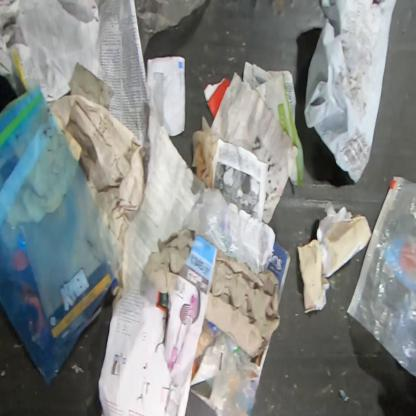soft_plastic: (0, 83, 125, 388), (303, 0, 397, 184), (346, 175, 415, 379), (194, 332, 258, 415), (135, 0, 207, 60), (201, 209, 241, 259)
